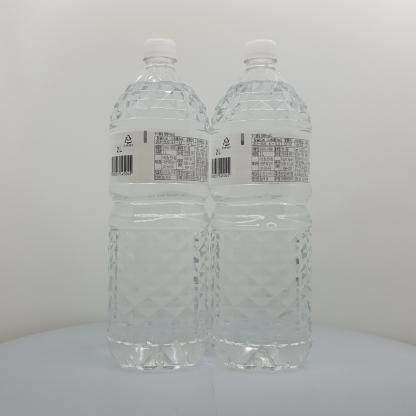--------------: (106, 38, 210, 370), (210, 39, 313, 371)
